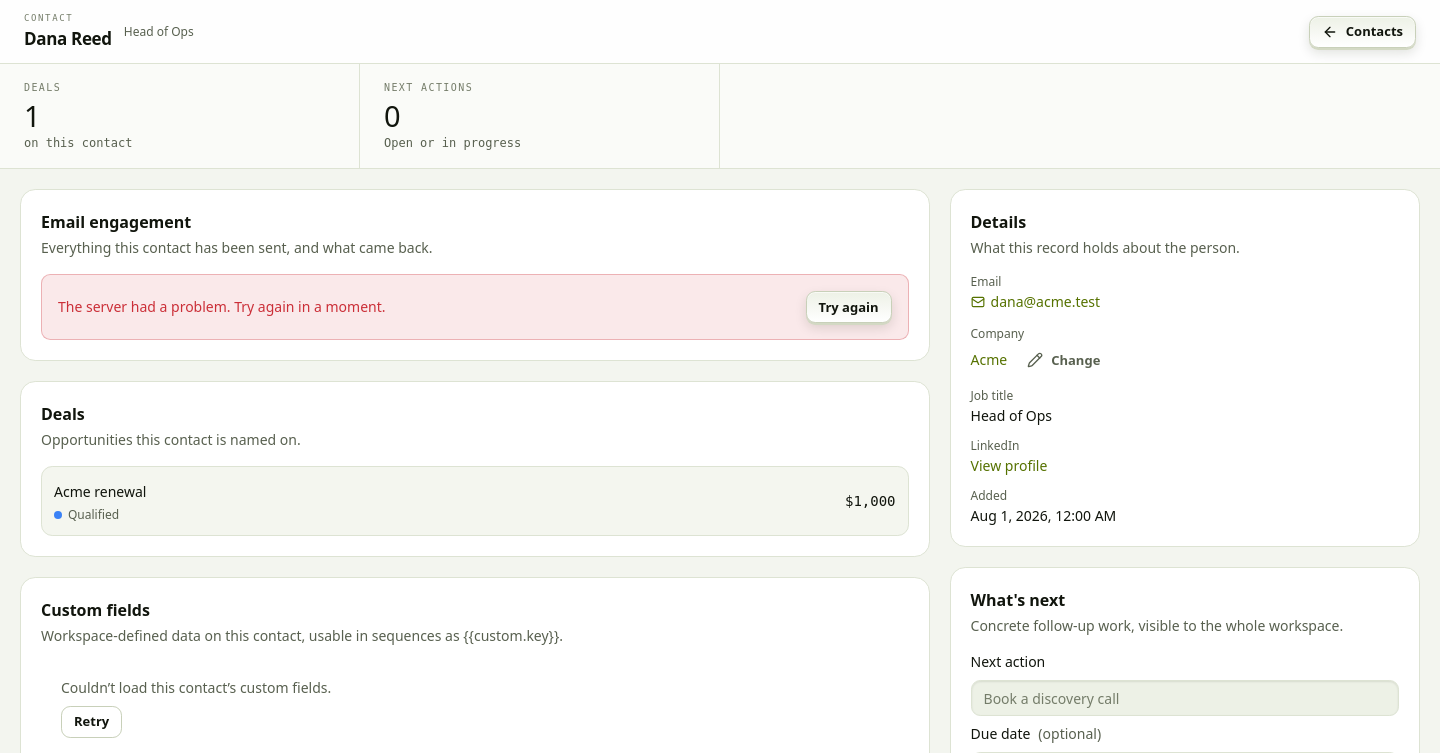
Scenario: a failed engagement read leaves the rest of the record usable
Expected: the message shows "The server had a problem. Try again in a moment.", x1=58 y1=297 x2=386 y2=316
Expected: the message does not show "CRM", x1=41 y1=274 x2=908 y2=340
What coordinates should you click on to do the following:
click the button "Try again"
I would click on:
 (848, 307)
Its box is x1=806 y1=291 x2=892 y2=323.
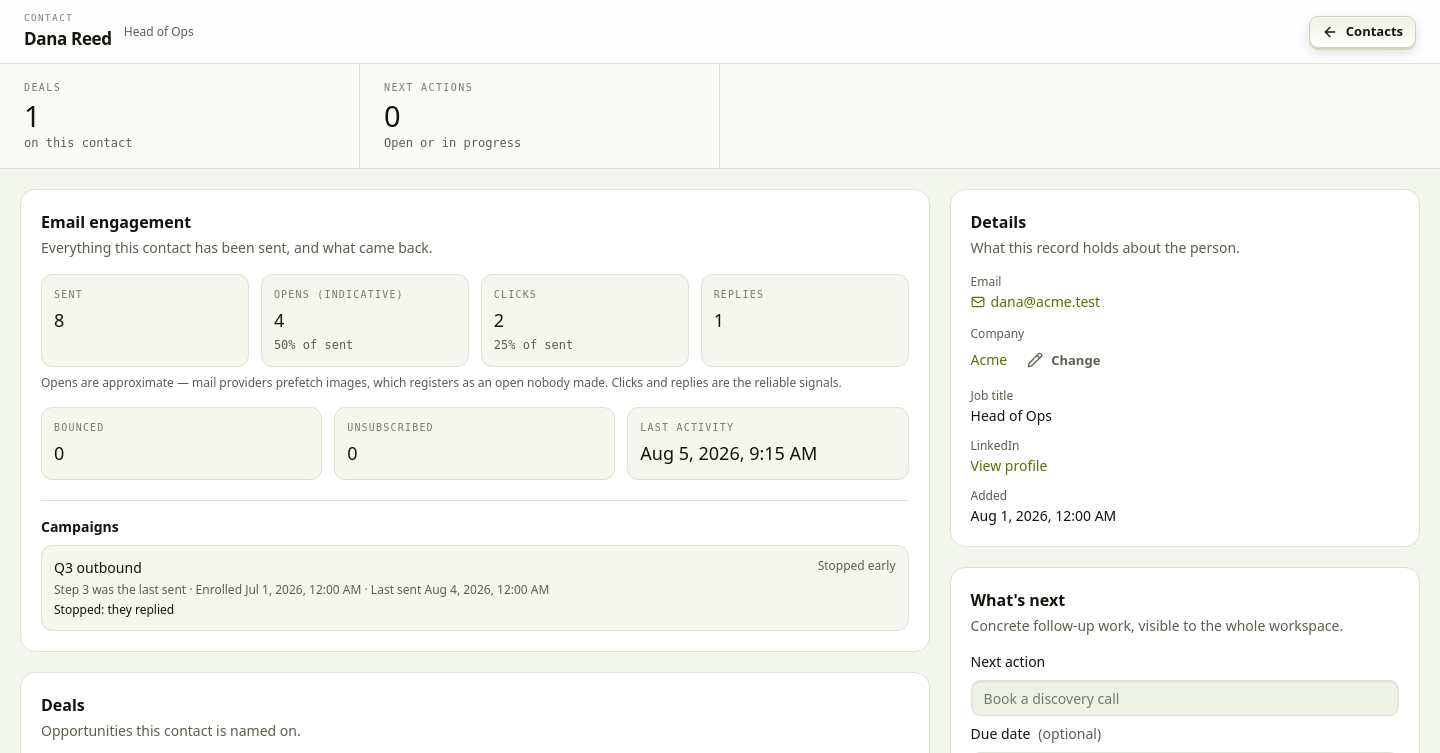
Now the text "Opens (indicative)" is shown, box x1=274 y1=289 x2=404 y2=300
